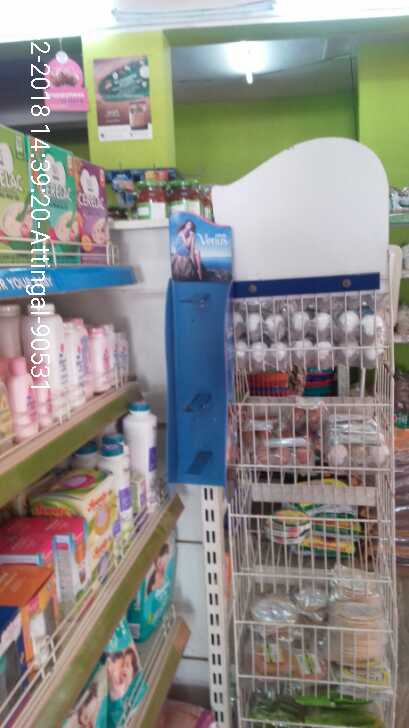reject: (172, 326, 275, 446)
